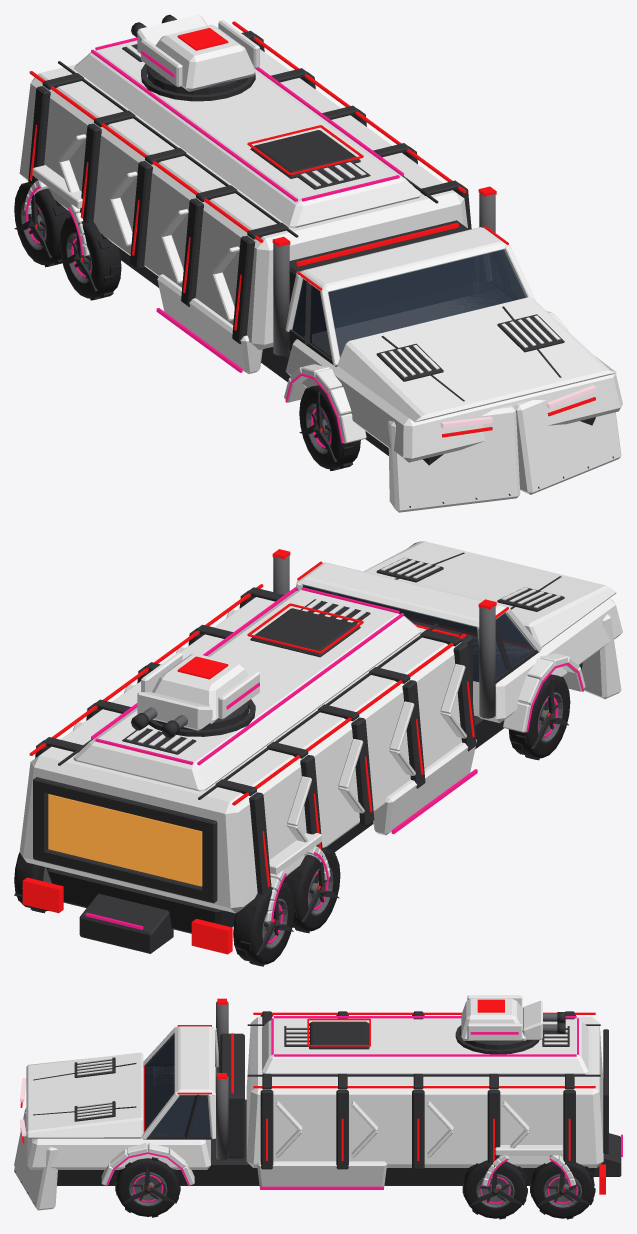
File: boss_phone.glb
3 views of the same model, one above another, from view 1: azimuth 30°, elevation 25°; view 2: azimuth 150°, elevation 25°; view 3: azimuth 270°, elevation 25° (orthographic). The views are drawn at different scales.
Visible parts, largest first — view 1: boss_body, turret_mesh, wheel_RL_mesh, wheel_RL2_mesh, wheel_FL_mesh; view 2: boss_body, turret_mesh, wheel_RL2_mesh, wheel_RL_mesh, wheel_FL_mesh, wheel_RR2_mesh; view 3: boss_body, turret_mesh, wheel_FR_mesh, wheel_RR_mesh, wheel_RR2_mesh.
Boxes of the visible parts, bbox=[...] form: boss_body: bbox=[19, 21, 622, 512]; turret_mesh: bbox=[131, 14, 259, 94]; wheel_RL_mesh: bbox=[59, 216, 121, 300]; wheel_RL2_mesh: bbox=[14, 182, 71, 267]; wheel_FL_mesh: bbox=[299, 385, 360, 470]; boss_body: bbox=[19, 541, 622, 954]; turret_mesh: bbox=[131, 652, 259, 737]; wheel_RL2_mesh: bbox=[233, 882, 294, 966]; wheel_RL_mesh: bbox=[283, 847, 340, 933]; wheel_FL_mesh: bbox=[508, 674, 570, 760]; wheel_RR2_mesh: bbox=[14, 852, 51, 913]; boss_body: bbox=[14, 998, 622, 1210]; turret_mesh: bbox=[460, 995, 565, 1049]; wheel_FR_mesh: bbox=[115, 1157, 180, 1217]; wheel_RR_mesh: bbox=[462, 1160, 527, 1219]; wheel_RR2_mesh: bbox=[530, 1161, 595, 1219].
Size of the model in its own units: 3.14 by 2.76 by 8.85.
Materials: 6 (1 with a texture image).
